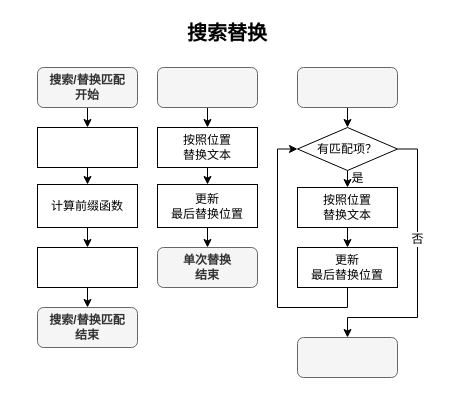
Image size: 454x395. Some labels were removed from this diagram. Each missing label, with the centre of its shape:
全部替换 开始: (x=347, y=87)
全部替换 结束: (x=347, y=357)
单次替换 开始: (x=207, y=87)
得出 全部匹配结果: (x=87, y=267)
构造计算前缀函数 的字符串: (x=87, y=147)
